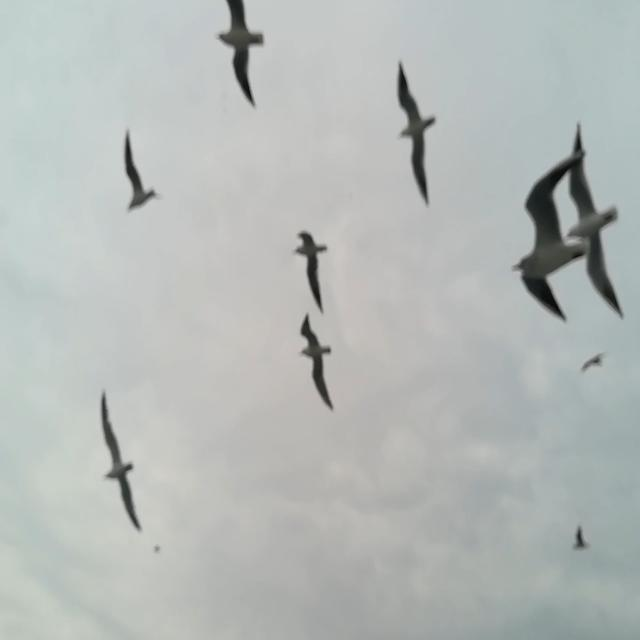bird: (557, 105, 640, 328), (495, 140, 578, 332), (88, 381, 147, 545), (389, 53, 441, 219), (210, 2, 272, 114), (287, 221, 337, 319), (295, 308, 339, 417), (119, 118, 158, 227), (578, 334, 612, 396), (567, 510, 594, 562)
